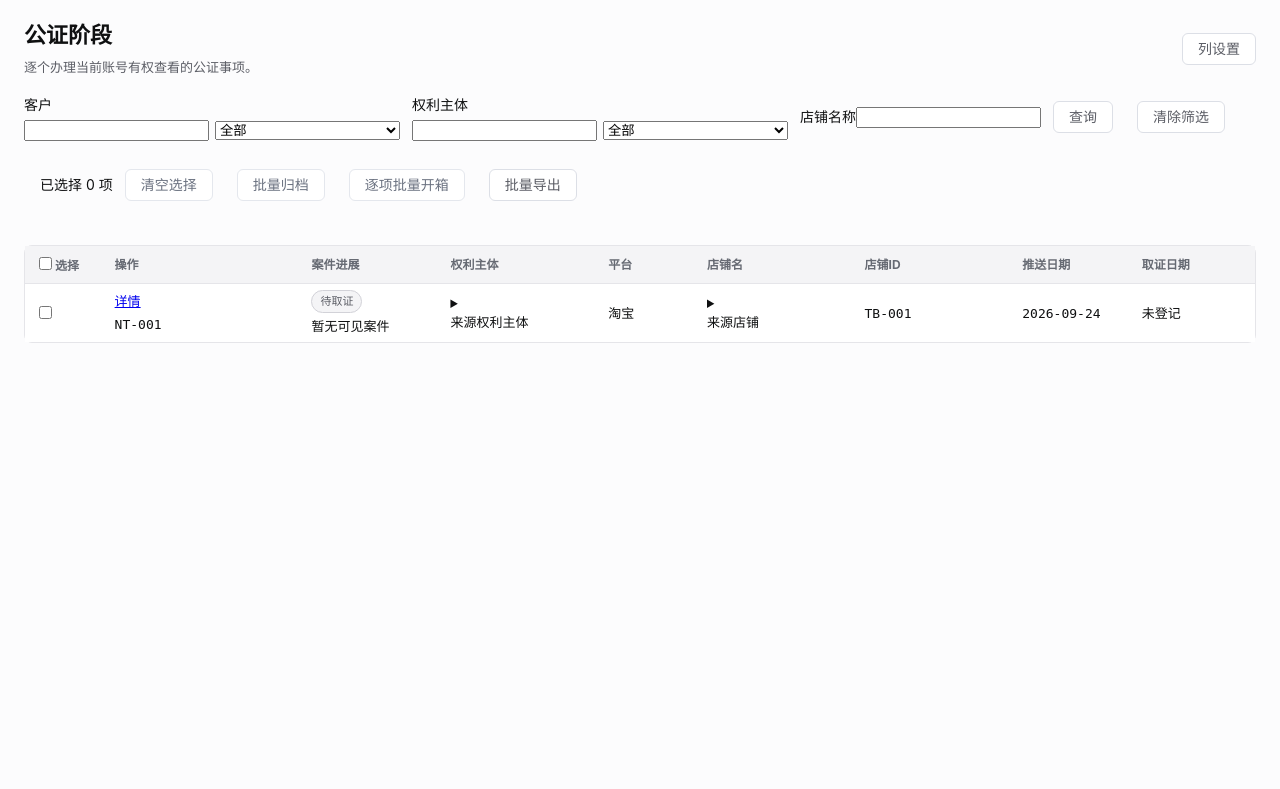
Test case: NotaryMatterListPage › opens all seventeen optional settings and keeps selection, operations and progress fixed
Click the button with test id "column-settings-toggle".
click(1219, 49)  # box [1182,33,1256,65]
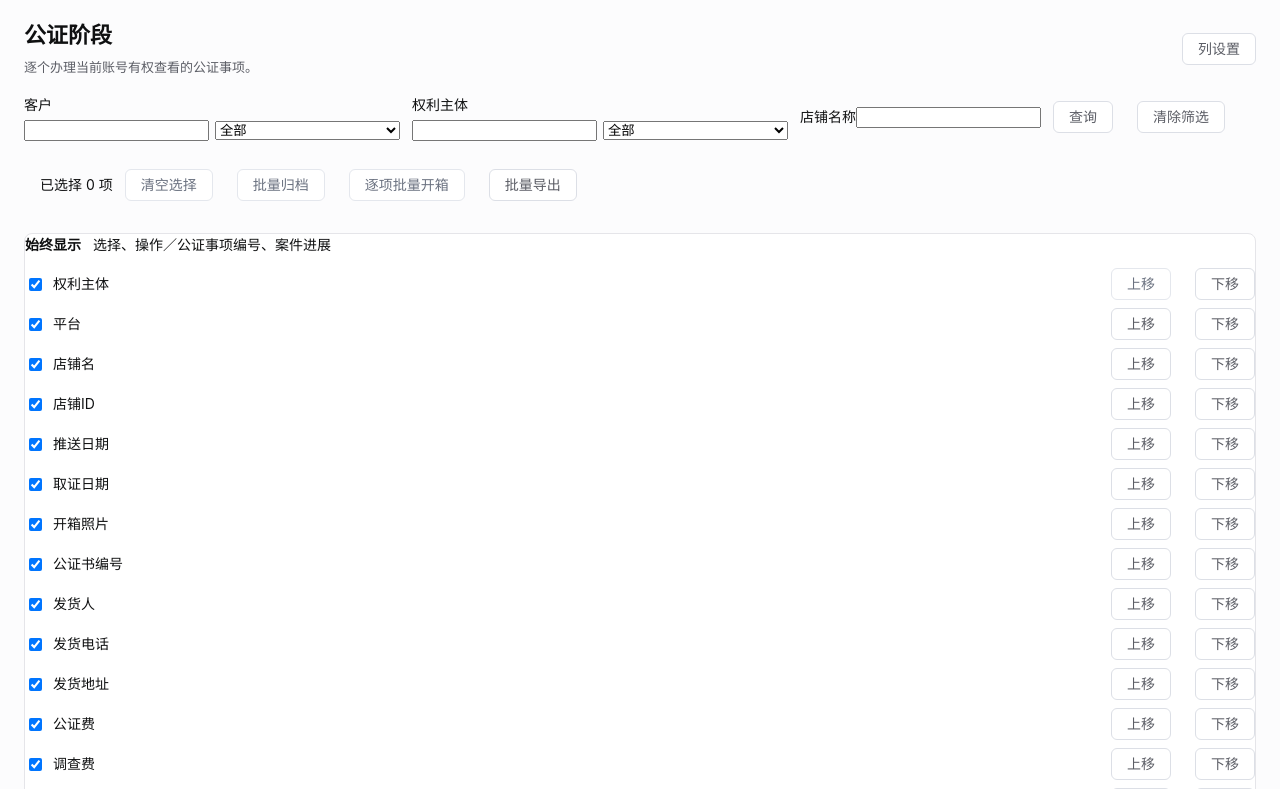
Expected: the text "始终显示" is shown, [25,234,81,256]
Expected: the number of elements with test id "column-option" is 17
